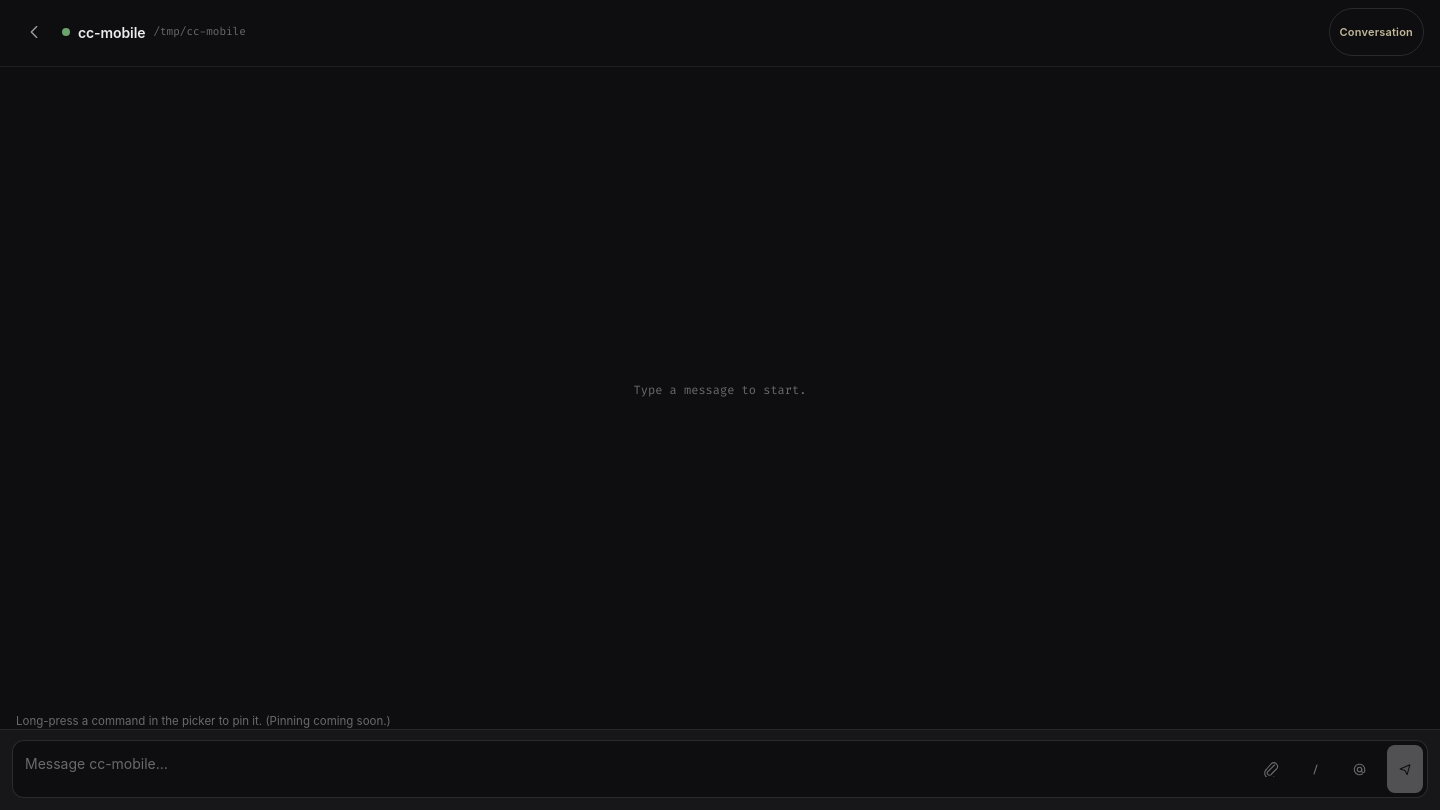
Test: PickerSheetTerminates › T8: a disconnected socket opens to the empty command copy
Click the button named "Insert slash command": (1315, 769) [1297,745,1333,793]
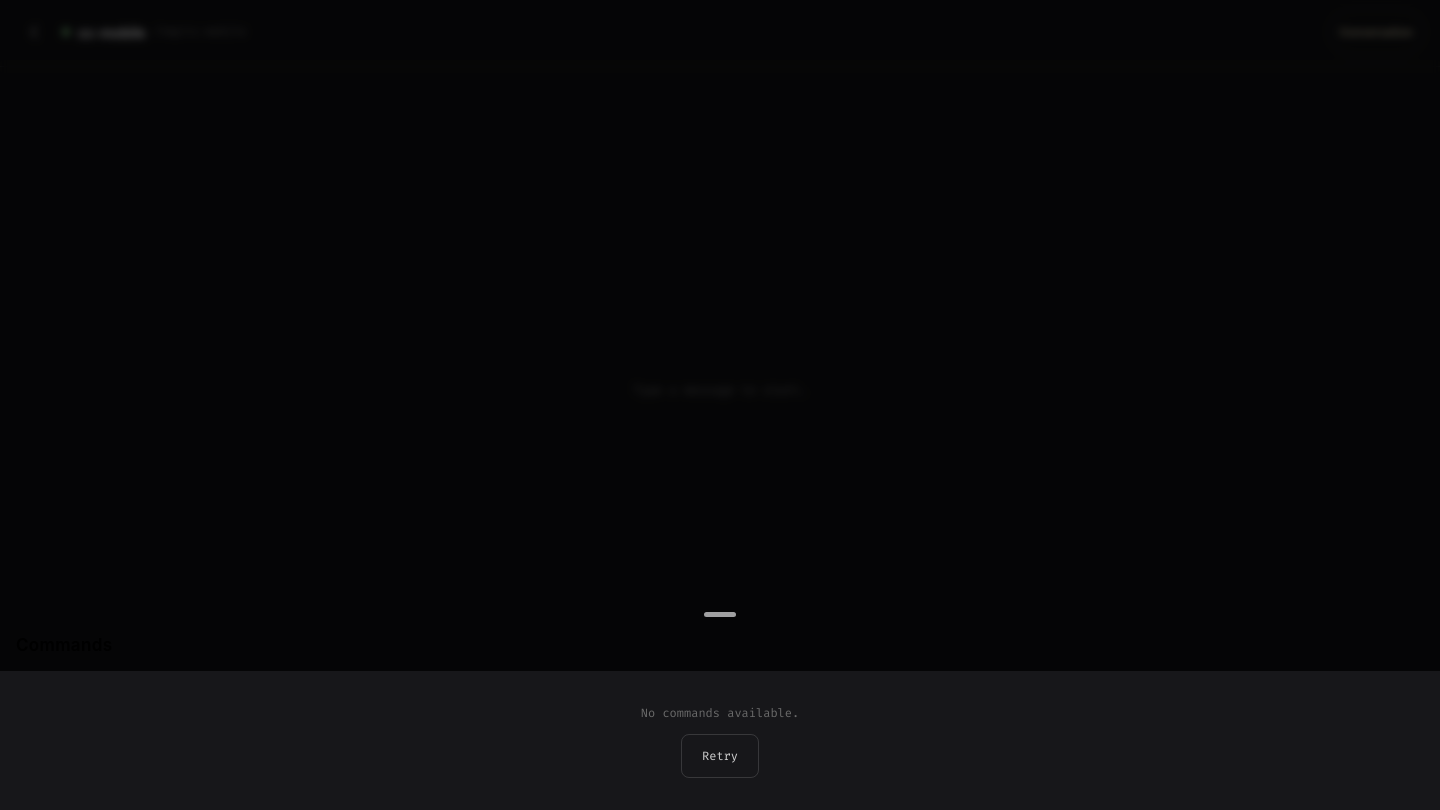
Expected: the text "No commands available." is shown, [641,704,799,720]
